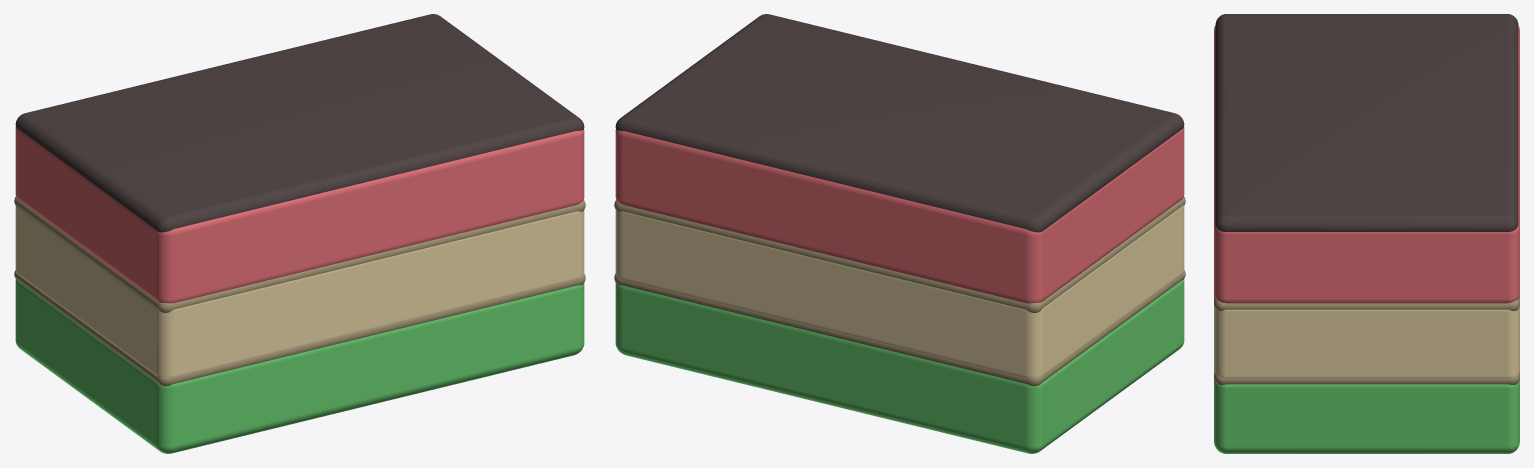
Rendered from cake.glb.
The picture shows the model from 3 angles, left to right: view 1: azimuth 30°, elevation 25°; view 2: azimuth 150°, elevation 25°; view 3: azimuth 270°, elevation 25°; orthographic projection.
Visible parts, largest first — view 1: Box 3, Box 2, Box, Box 1, Box 4, Box 5; view 2: Box 3, Box 2, Box, Box 1, Box 4, Box 5; view 3: Box 3, Box 2, Box, Box 1, Box 4, Box 5.
Part boxes in pixels (x1=…): Box 3: x1=15, y1=14, x2=584, y2=232; Box 2: x1=15, y1=127, x2=584, y2=303; Box: x1=15, y1=279, x2=584, y2=453; Box 1: x1=15, y1=205, x2=584, y2=377; Box 4: x1=14, y1=196, x2=585, y2=312; Box 5: x1=14, y1=270, x2=585, y2=386; Box 3: x1=615, y1=14, x2=1184, y2=232; Box 2: x1=615, y1=127, x2=1184, y2=303; Box: x1=615, y1=279, x2=1184, y2=453; Box 1: x1=615, y1=205, x2=1184, y2=377; Box 4: x1=614, y1=196, x2=1185, y2=312; Box 5: x1=614, y1=270, x2=1185, y2=386; Box 3: x1=1215, y1=14, x2=1518, y2=231; Box 2: x1=1214, y1=25, x2=1519, y2=303; Box: x1=1214, y1=379, x2=1519, y2=453; Box 1: x1=1214, y1=305, x2=1519, y2=378; Box 4: x1=1214, y1=295, x2=1519, y2=310; Box 5: x1=1214, y1=372, x2=1519, y2=384.
Bounding box in the file's own units: 0.1297 × 0.0689 × 0.08.
